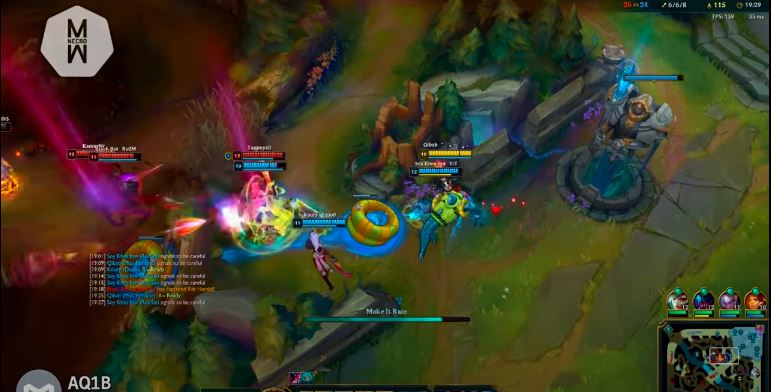bar: (230, 159, 291, 173), (87, 149, 143, 164), (65, 148, 133, 160), (407, 164, 465, 178), (417, 146, 476, 159), (292, 217, 352, 229), (229, 149, 290, 160), (1, 120, 17, 134)
